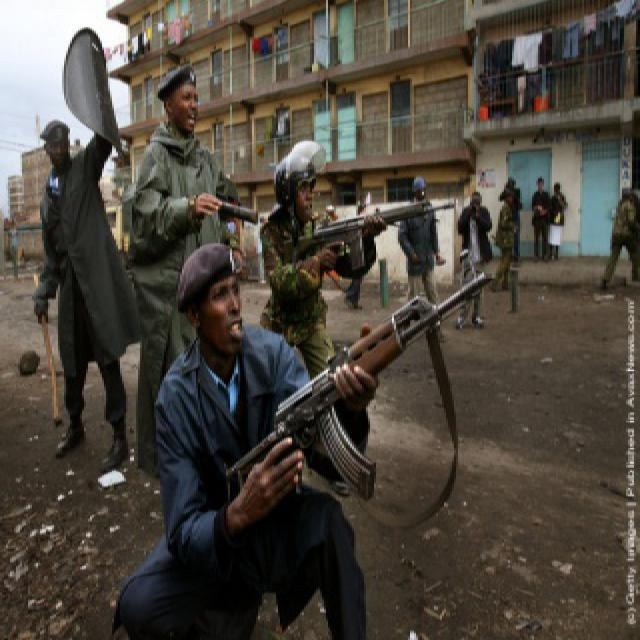long weapon: (214, 260, 496, 518), (256, 182, 464, 265)
